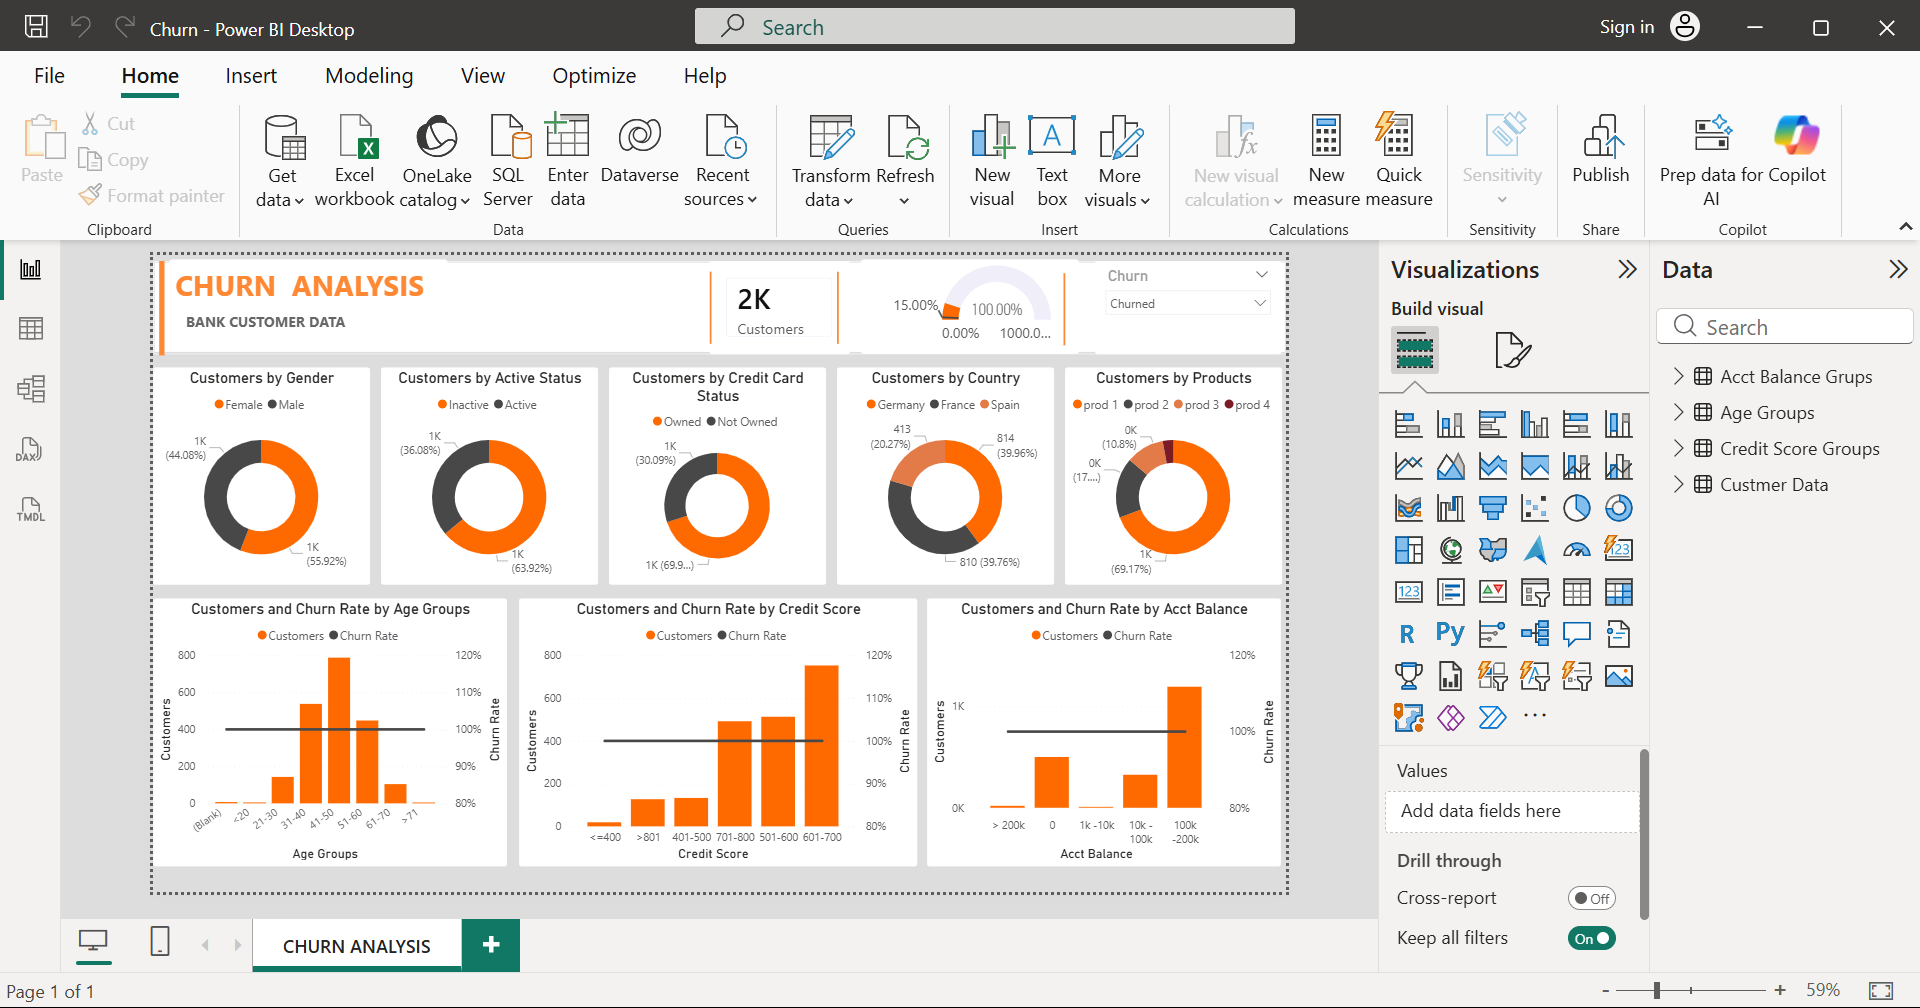

This screenshot's page, from the dashboard's own definition file:
{"tool":"powerbi","page":{"name":"CHURN ANALYSIS","canvas":[1280,720],"ordinal":0},"visuals":[{"type":"shape","box":[0,6.5,1280.8,105.2],"z":0},{"type":"cardVisual","fields":{"Data":["Custmer Data.Customers"]},"box":[628.3,6.5,158.7,105.2],"z":1000},{"type":"donutChart","fields":{"Category":["Custmer Data.Gender"],"Y":["Custmer Data.Customers"]},"box":[0,126.3,245,245],"z":2000},{"type":"donutChart","fields":{"Category":["Custmer Data.Active Status"],"Y":["Custmer Data.Customers"]},"box":[257.5,126.3,245,245],"z":3000},{"type":"donutChart","fields":{"Y":["Custmer Data.Customers"],"Category":["Custmer Data.Credit Card Status"]},"box":[514.9,126.3,245,245],"z":4000},{"type":"donutChart","fields":{"Y":["Custmer Data.Customers"],"Category":["Custmer Data.Country"]},"box":[772.4,126.3,245,245],"z":5000},{"type":"donutChart","fields":{"Category":["Custmer Data.Products"],"Y":["Custmer Data.Customers"]},"box":[1029.8,126.3,245,245],"z":6000},{"type":"lineStackedColumnComboChart","fields":{"Category":["Age Groups.Age Groups"],"Y":["Custmer Data.Customers"],"Y2":["Custmer Data.Churn Rate"]},"box":[0,388.6,399.9,302.8],"z":7000},{"type":"lineStackedColumnComboChart","fields":{"Y":["Custmer Data.Customers"],"Y2":["Custmer Data.Churn Rate"],"Category":["Custmer Data.Credit Score"]},"box":[412.9,388.6,450.1,302.8],"z":8000},{"type":"lineStackedColumnComboChart","fields":{"Y":["Custmer Data.Customers"],"Y2":["Custmer Data.Churn Rate"],"Category":["Acct Balance Grups.Acct Balance"]},"box":[874.4,388.6,399.9,302.8],"z":9000},{"type":"slicer","fields":{"Values":["Custmer Data.Churn"]},"box":[1063.8,6.5,210.5,105.2],"z":10000},{"type":"gauge","fields":{"Y":["Custmer Data.Churn Rate"],"MinValue":["Min(Custmer Data.Min Churn Rate)"],"MaxValue":["Max(Custmer Data.Max Churn Rate)"],"TargetValue":["Max(Custmer Data.Target Churn Rate)"]},"box":[799.9,4.9,246.1,106.9],"z":11000},{"type":"textbox","box":[19.4,4.9,314.1,63.1],"z":12000},{"type":"textbox","box":[30.8,58.3,213.7,38.9],"z":13000},{"type":"shape","box":[620.2,16.2,19.4,85.8],"z":14000},{"type":"shape","box":[759.4,16.2,29.1,85.8],"z":15000},{"type":"shape","box":[1015.3,17.8,29.1,85.8],"z":16000},{"type":"shape","box":[0,6.5,20,106.9],"z":17000}]}

Visuals, with their boxes on the page's 1280x720 design canvas (x1, y1, x2, y2). These are canvas units, not pixel positions in the 1920x1008 screenshot, which may show the page scaled, cropped or inside an application window:
shape: x1=0, y1=6, x2=1281, y2=112
cardVisual - Custmer Data.Customers: x1=628, y1=6, x2=787, y2=112
donutChart - Custmer Data.Gender x Custmer Data.Customers: x1=0, y1=126, x2=245, y2=371
donutChart - Custmer Data.Active Status x Custmer Data.Customers: x1=258, y1=126, x2=502, y2=371
donutChart - Custmer Data.Customers x Custmer Data.Credit Card Status: x1=515, y1=126, x2=760, y2=371
donutChart - Custmer Data.Customers x Custmer Data.Country: x1=772, y1=126, x2=1017, y2=371
donutChart - Custmer Data.Products x Custmer Data.Customers: x1=1030, y1=126, x2=1275, y2=371
lineStackedColumnComboChart - Age Groups.Age Groups x Custmer Data.Customers: x1=0, y1=389, x2=400, y2=691
lineStackedColumnComboChart - Custmer Data.Customers x Custmer Data.Churn Rate: x1=413, y1=389, x2=863, y2=691
lineStackedColumnComboChart - Custmer Data.Customers x Custmer Data.Churn Rate: x1=874, y1=389, x2=1274, y2=691
slicer - Custmer Data.Churn: x1=1064, y1=6, x2=1274, y2=112
gauge - Custmer Data.Churn Rate x Min(Custmer Data.Min Churn Rate): x1=800, y1=5, x2=1046, y2=112
textbox: x1=19, y1=5, x2=334, y2=68
textbox: x1=31, y1=58, x2=244, y2=97
shape: x1=620, y1=16, x2=640, y2=102
shape: x1=759, y1=16, x2=788, y2=102
shape: x1=1015, y1=18, x2=1044, y2=104
shape: x1=0, y1=6, x2=20, y2=113
